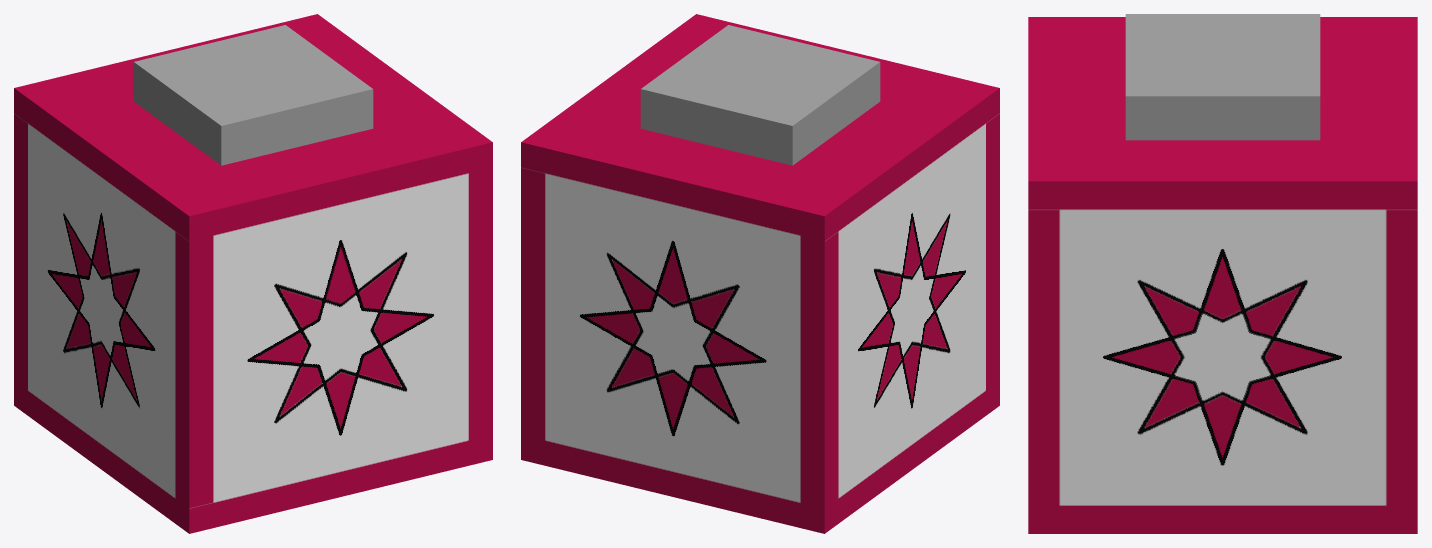
File: Bomb.fbx
The picture shows the model from 3 angles, left to right: view 1: azimuth 30°, elevation 25°; view 2: azimuth 150°, elevation 25°; view 3: azimuth 270°, elevation 25°; orthographic projection. The views are drawn at different scales.
Visible parts, largest first — view 1: pCube1, pCube2; view 2: pCube1, pCube2; view 3: pCube1, pCube2.
Part boxes in pixels (x1=…): pCube1: x1=14, y1=14, x2=492, y2=533; pCube2: x1=133, y1=25, x2=373, y2=165; pCube1: x1=521, y1=14, x2=999, y2=533; pCube2: x1=640, y1=25, x2=880, y2=165; pCube1: x1=1028, y1=17, x2=1417, y2=533; pCube2: x1=1125, y1=14, x2=1320, y2=140.
Size of the model in its own units: 2 by 2.25 by 2.
Materials: 2 (1 with a texture image).
